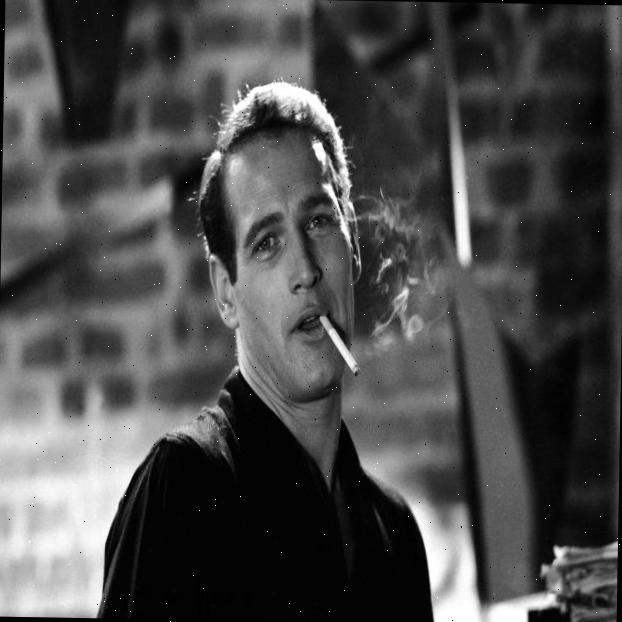smoke: (364, 191, 460, 363)
